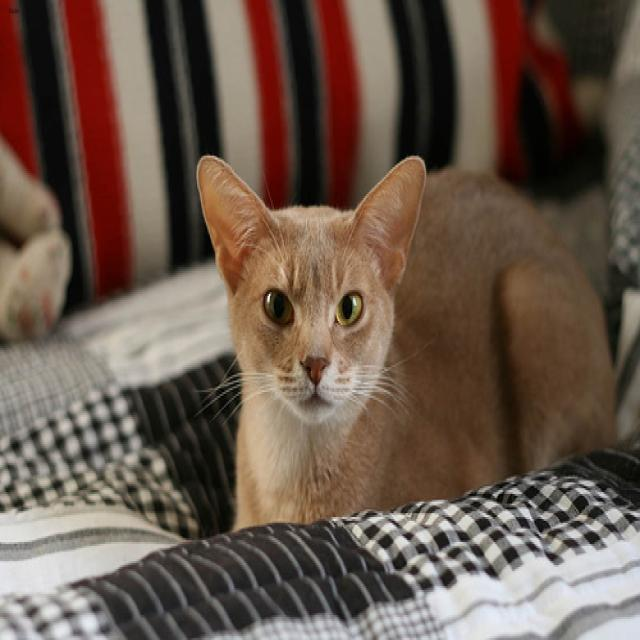Abyssinian: (195, 154, 425, 423)
